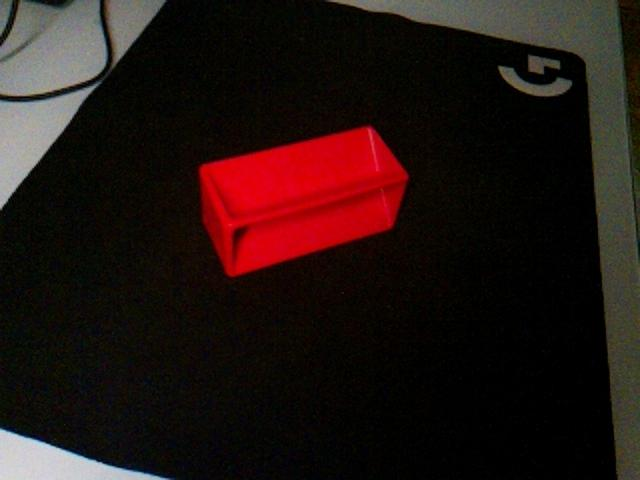red: (197, 123, 411, 279)
